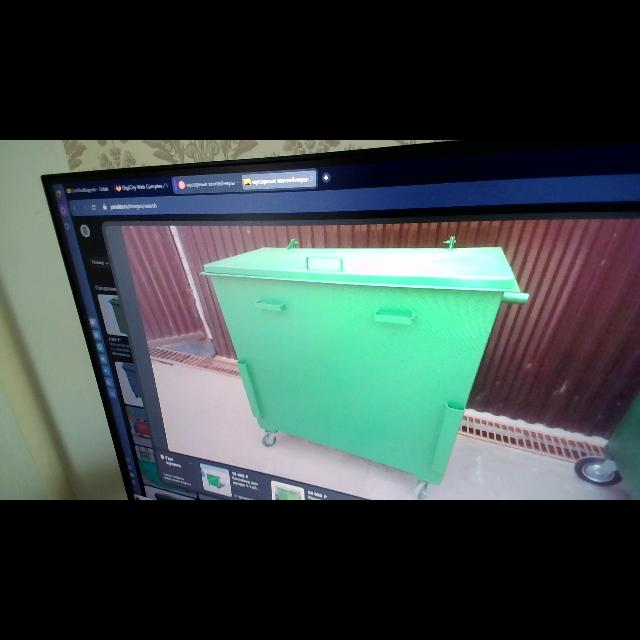Trash_Can_Closed: (202, 246, 521, 484)
